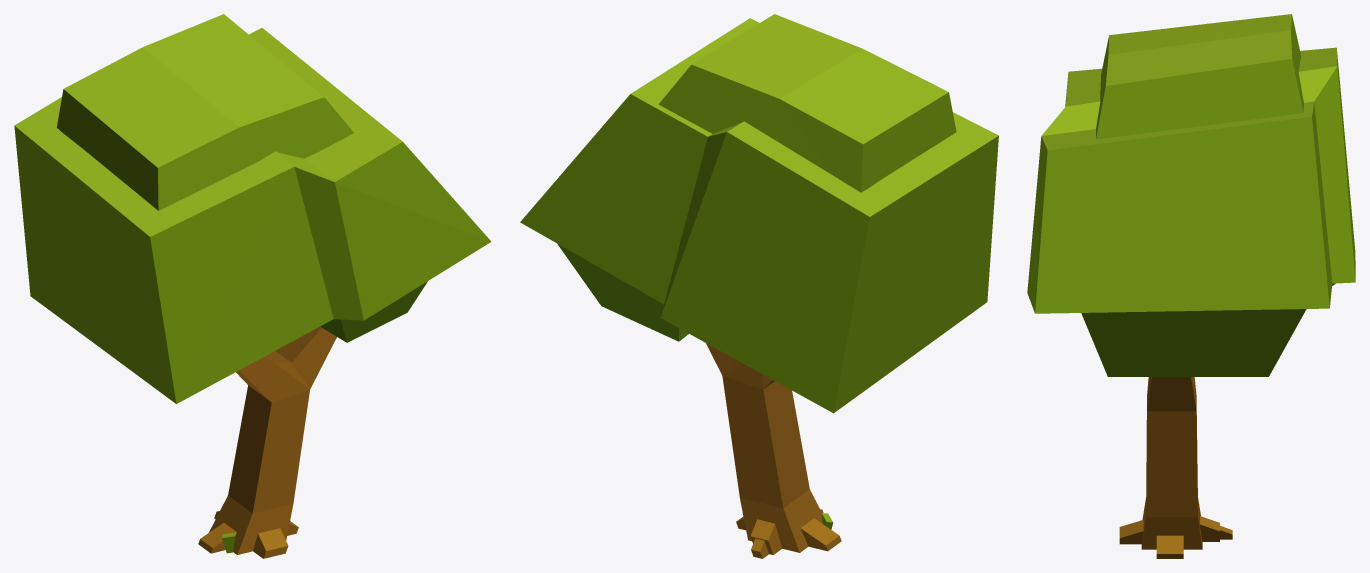
Rendered from SF_Env_Tree_01.fbx.
3 views of the same model, side by side, from view 1: azimuth 30°, elevation 25°; view 2: azimuth 150°, elevation 25°; view 3: azimuth 270°, elevation 25° (orthographic). The views are drawn at different scales.
Visible parts, largest first — view 1: SF_Prop_Tree_01; view 2: SF_Prop_Tree_01; view 3: SF_Prop_Tree_01.
Boxes of the visible parts, x1=… form: SF_Prop_Tree_01: x1=14, y1=14, x2=491, y2=558; SF_Prop_Tree_01: x1=520, y1=14, x2=998, y2=558; SF_Prop_Tree_01: x1=1027, y1=14, x2=1355, y2=558.
Size of the model in its own units: 5.23 by 7.14 by 4.27.
